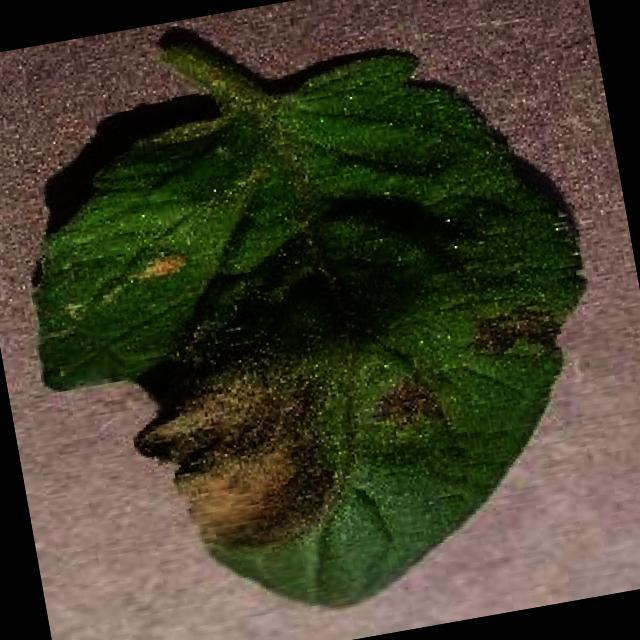Tomato late blight leaf: (0, 21, 631, 640)
